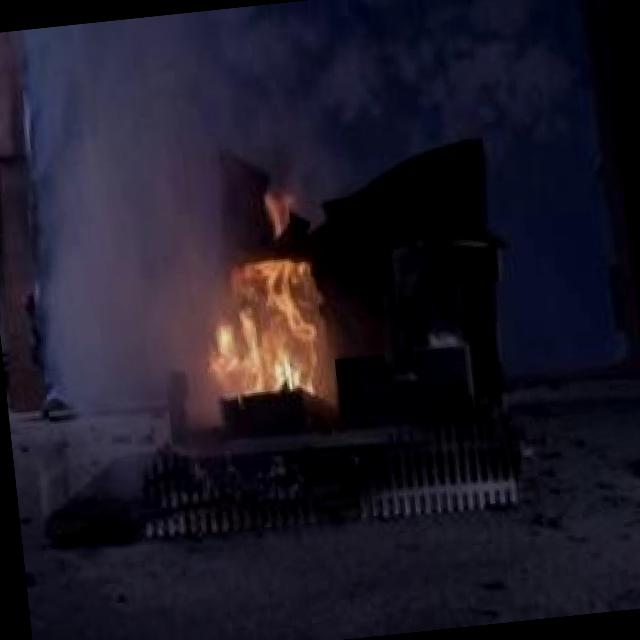fire: (182, 231, 364, 449)
smoke: (0, 0, 332, 259)
